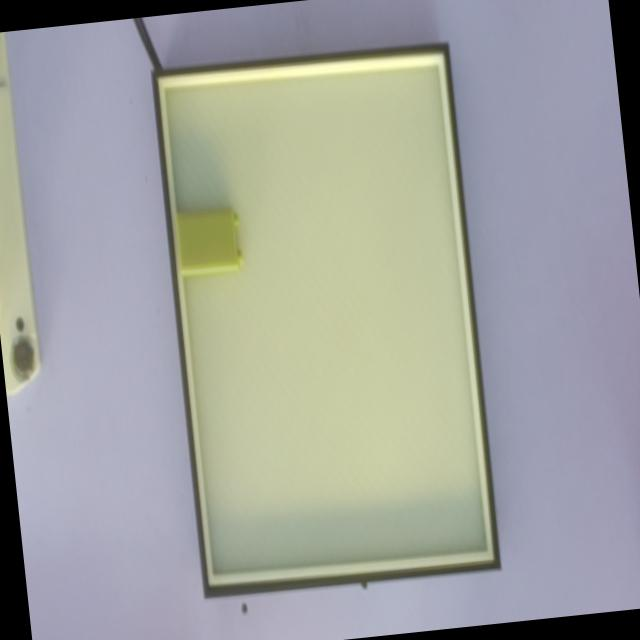bateria: (176, 206, 244, 275)
mesa: (151, 42, 500, 599)
